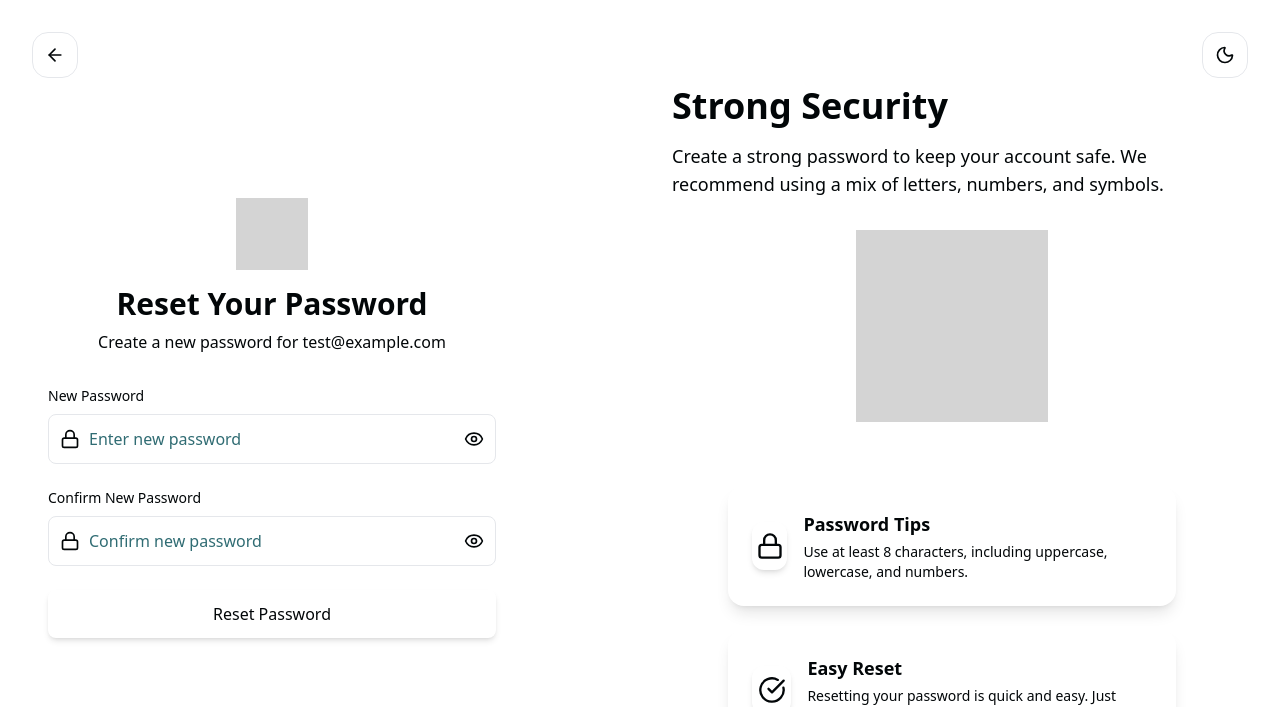
Test: ResetPasswordScreen › shows validation errors for empty passwords
Click the button "Reset Password" at coordinates (272, 614), box [48,590,496,638]
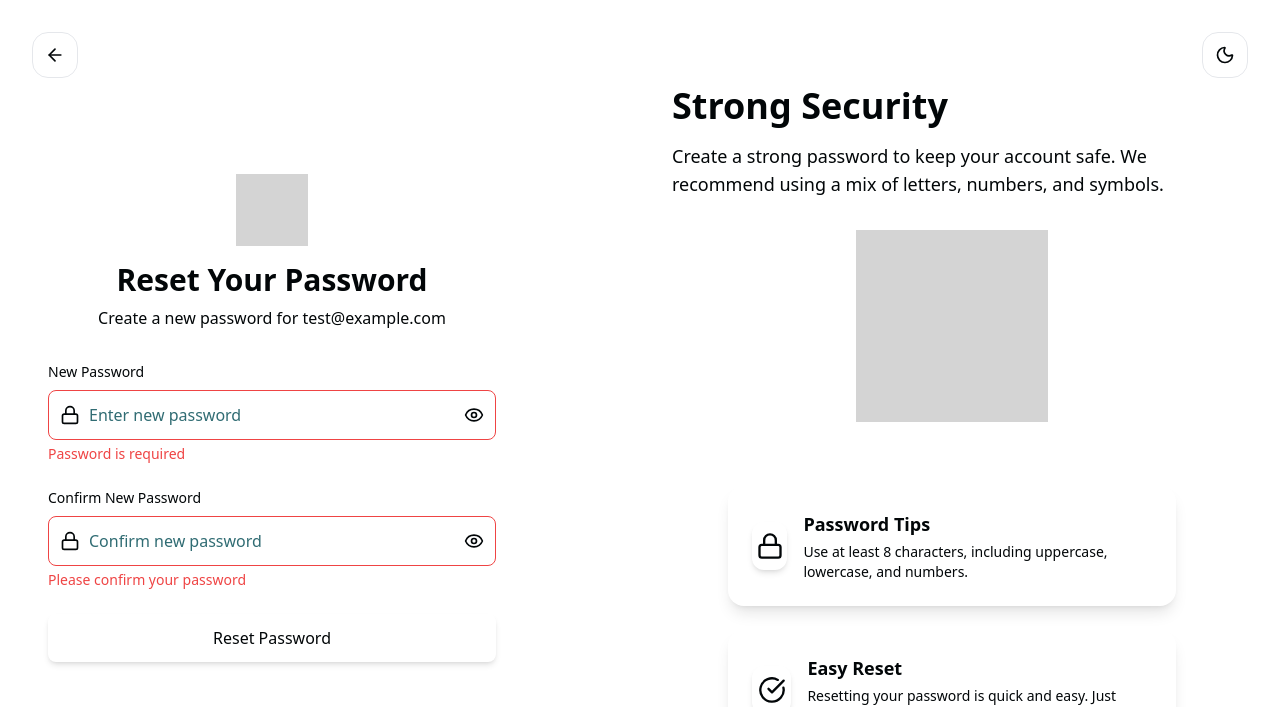
Check: the text "Password is required" is shown, box [48,444,185,463]
